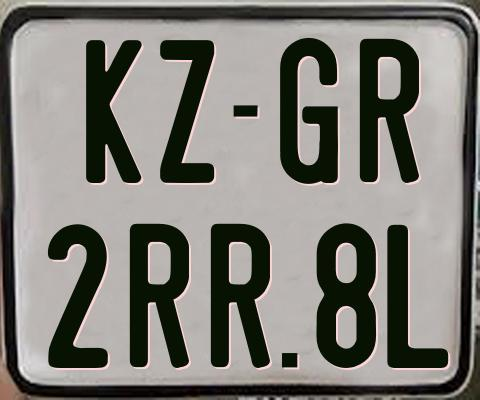2: (48, 224, 112, 374)
8: (313, 220, 377, 371)
G: (277, 36, 335, 188)
K: (86, 39, 144, 185)
L: (386, 225, 452, 373)
R: (129, 223, 194, 370), (208, 222, 271, 372), (359, 38, 419, 183)
Z: (157, 39, 215, 182)
